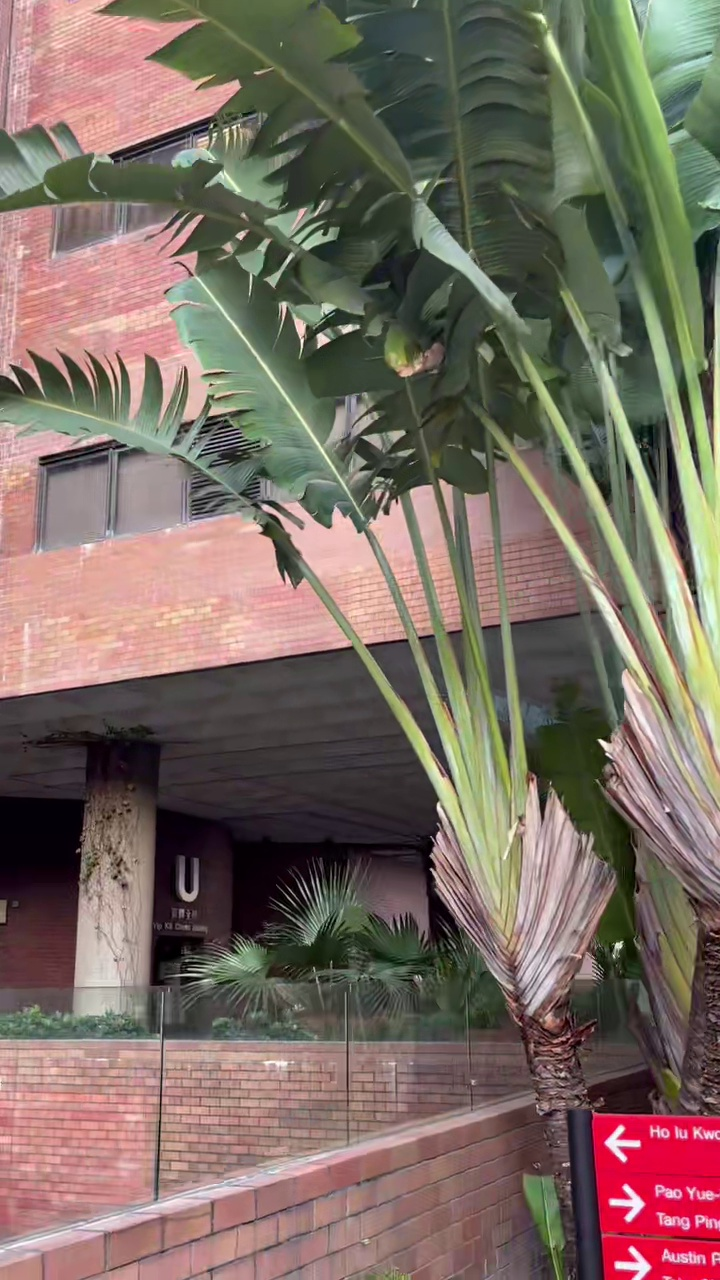Travellers-tree: (0, 0, 719, 1215)
